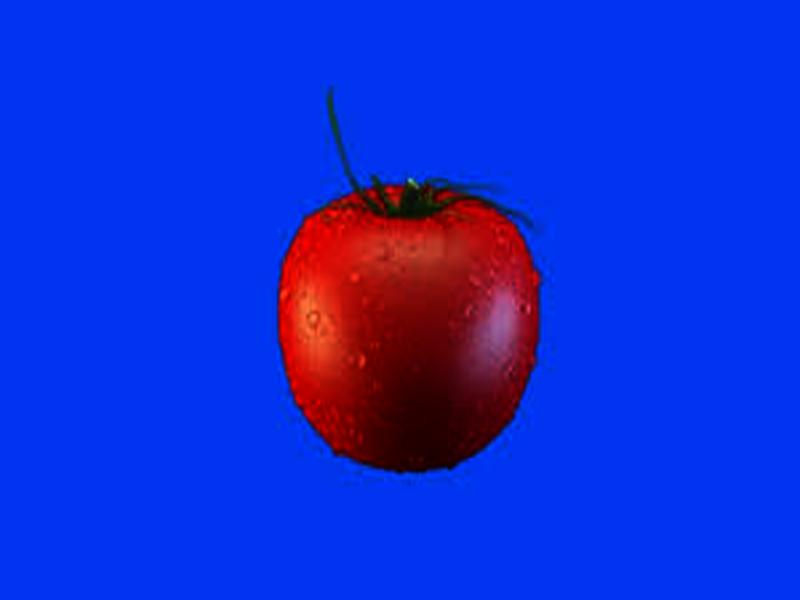Tomato: (277, 182, 541, 471)
